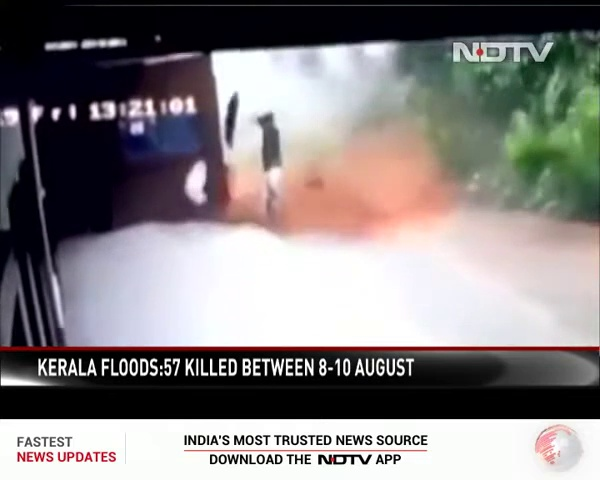person: (248, 110, 282, 220)
